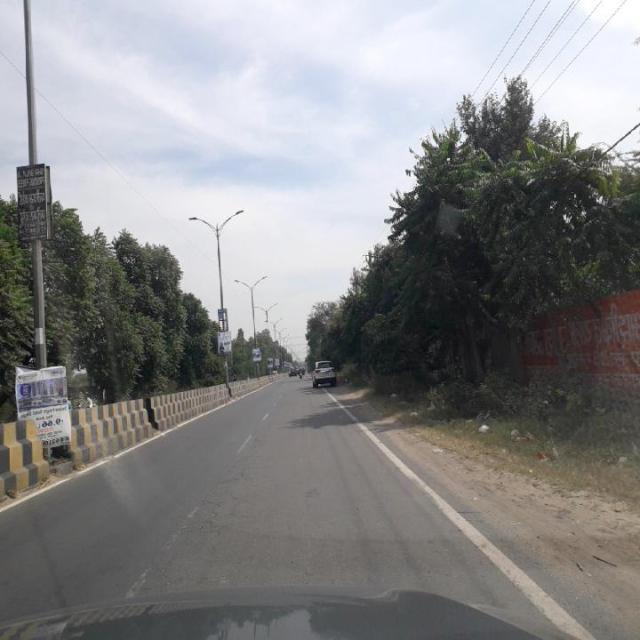crack: (151, 487, 245, 558)
